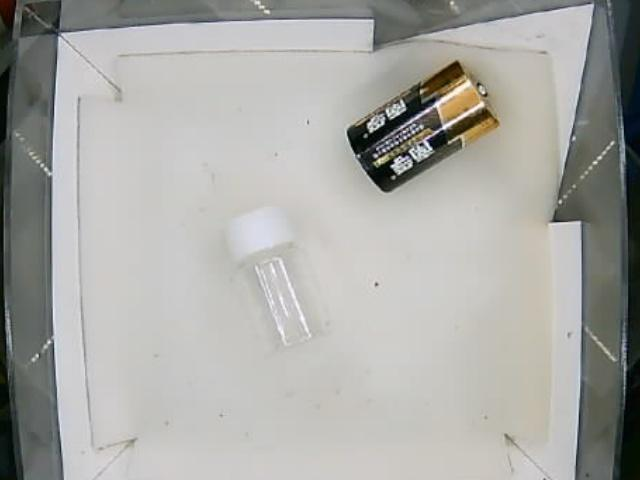Battery: (343, 59, 502, 190)
Bottle: (220, 214, 328, 350)
